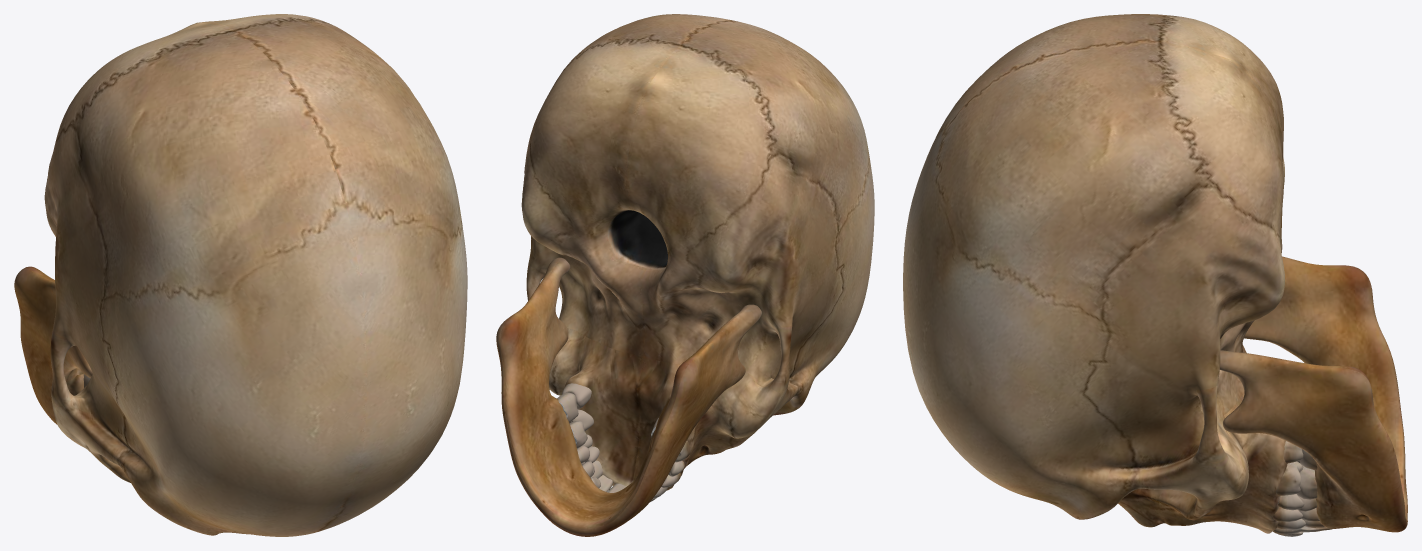
The model's file is Skull.obj.
3 renders of one model, left to right at view 1: azimuth 30°, elevation 25°; view 2: azimuth 150°, elevation 25°; view 3: azimuth 270°, elevation 25°, orthographic. The views are drawn at different scales.
Visible parts, largest first — view 1: 12140_Skull_v3, 12140_Skull_v3_jaw; view 2: 12140_Skull_v3, 12140_Skull_v3_jaw, 12140_Skull_v3_teeth, 12140_Skull_v3_teeth_lower; view 3: 12140_Skull_v3, 12140_Skull_v3_jaw, 12140_Skull_v3_teeth, 12140_Skull_v3_teeth_lower.
Part boxes in pixels (x1=…): 12140_Skull_v3: x1=44, y1=14, x2=467, y2=536; 12140_Skull_v3_jaw: x1=14, y1=266, x2=92, y2=424; 12140_Skull_v3: x1=521, y1=14, x2=874, y2=490; 12140_Skull_v3_jaw: x1=496, y1=257, x2=761, y2=536; 12140_Skull_v3_teeth: x1=562, y1=383, x2=690, y2=501; 12140_Skull_v3_teeth_lower: x1=557, y1=392, x2=658, y2=487; 12140_Skull_v3: x1=903, y1=14, x2=1287, y2=533; 12140_Skull_v3_jaw: x1=1220, y1=256, x2=1407, y2=532; 12140_Skull_v3_teeth: x1=1272, y1=441, x2=1305, y2=536; 12140_Skull_v3_teeth_lower: x1=1297, y1=449, x2=1332, y2=532.
Size of the model in its own units: 19.84 by 29.45 by 27.53.
